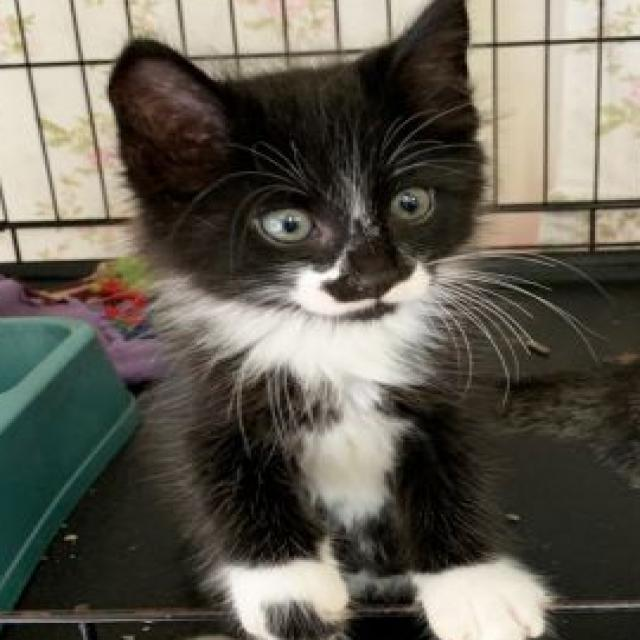Tuxedo: (102, 0, 550, 640)
